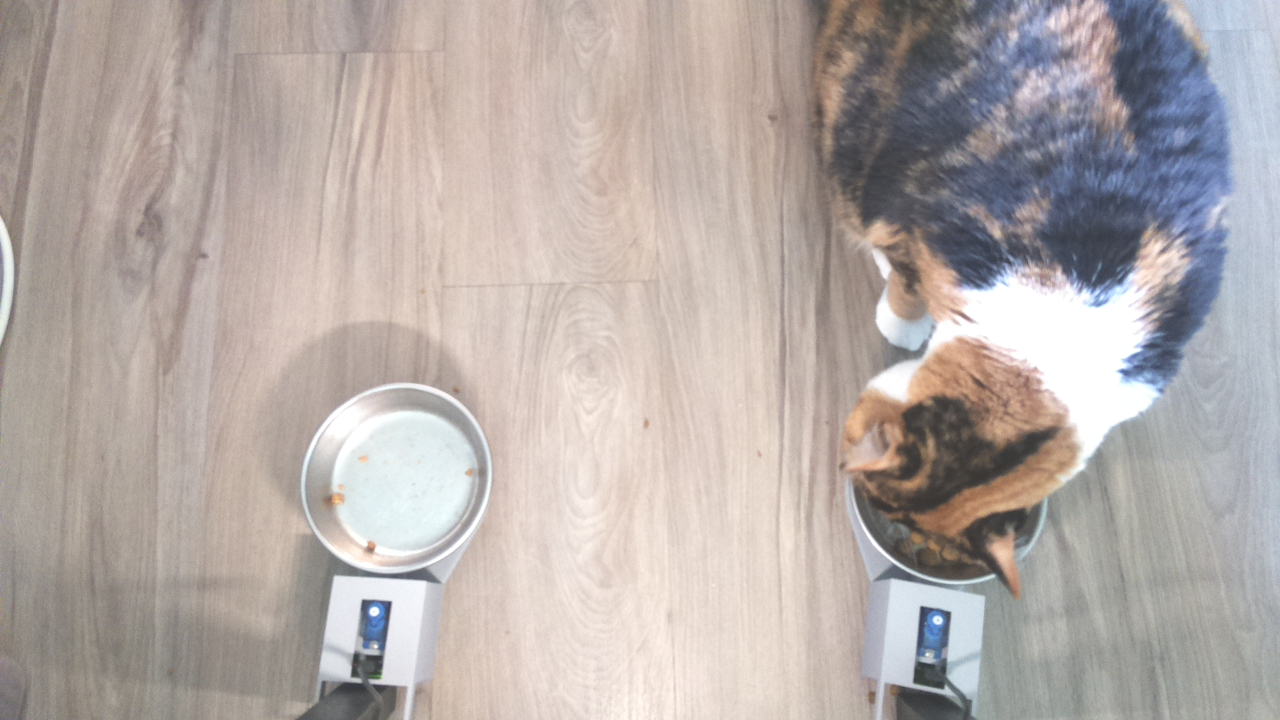bella_eating: (830, 287, 1102, 599)
open_bowl: (298, 379, 494, 579)
